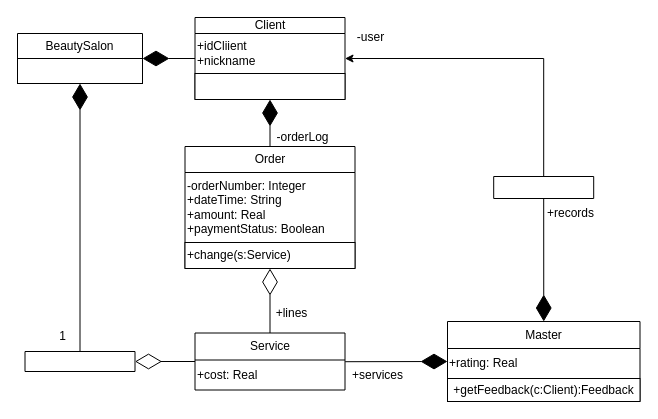
This 658x419 diagram has some shape labels left out. Each missing label, with the centre of its shape:
"#payTheBill(o: Order)" goes at [269,86].
"+getInfo" goes at [79,71].
"Feedback" goes at [543,187].
"PriceList" goes at [79,361].
